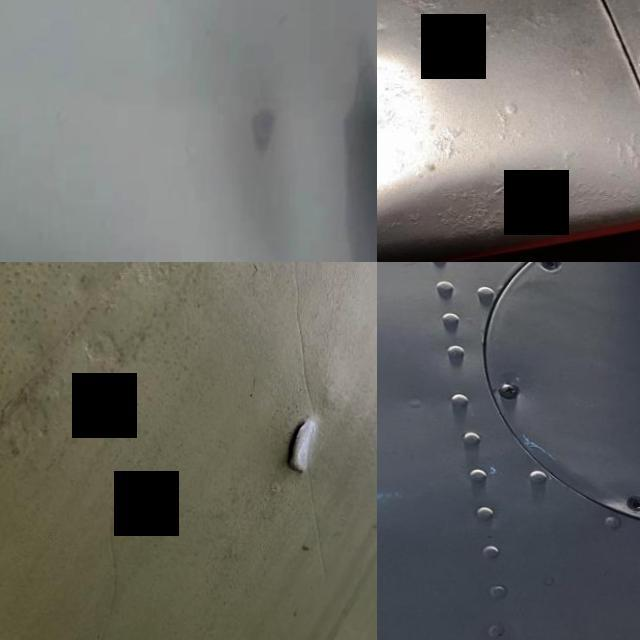Crack: (272, 404, 338, 484)
Dent: (377, 52, 442, 262), (345, 47, 377, 262)
Missing_Fastener: (624, 488, 640, 518)
